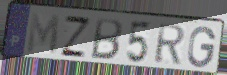5: (125, 19, 154, 64)
B: (88, 17, 124, 62)
G: (186, 25, 218, 69)
M: (25, 12, 61, 57)
R: (153, 23, 187, 66)
Z: (58, 14, 93, 60)
